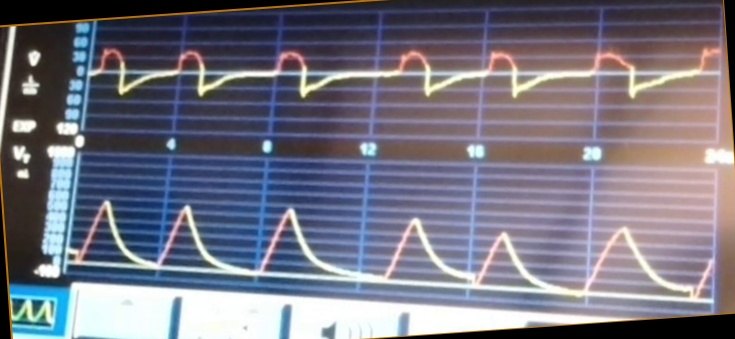Normal Flow: (94, 30, 719, 119)
Normal Volume: (69, 194, 712, 300)
